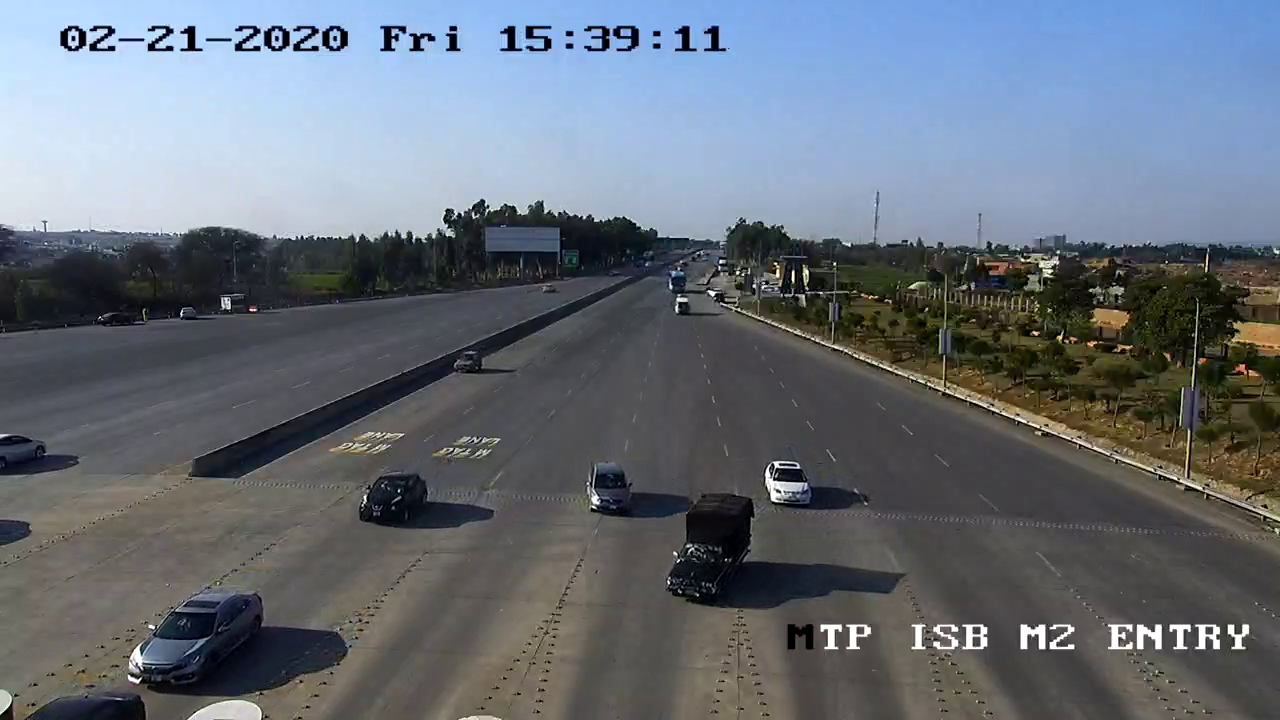f1: (119, 583, 272, 697), (660, 483, 757, 615), (351, 469, 435, 534), (574, 454, 646, 528), (758, 452, 820, 514)
